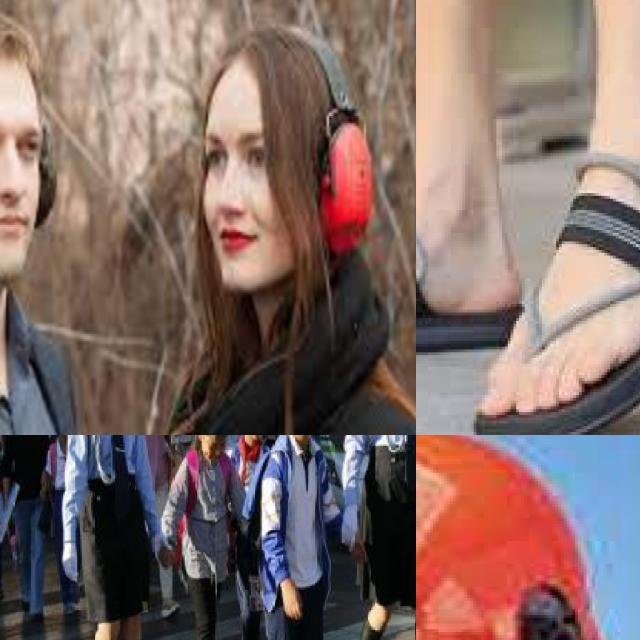Ear-protection: (185, 21, 381, 320), (0, 0, 77, 284)
No_Glasses: (197, 120, 273, 188), (0, 100, 45, 176)
Sandals: (475, 132, 640, 435), (416, 210, 526, 368)
face_nomask: (196, 435, 229, 467), (241, 435, 264, 444)
hand_glove: (60, 543, 79, 580), (148, 528, 171, 558)
hand_noglove: (279, 580, 303, 621), (348, 534, 368, 568), (158, 543, 176, 567), (39, 468, 51, 498)
person: (57, 435, 175, 640), (324, 435, 416, 640), (264, 435, 349, 640), (177, 435, 254, 640)
